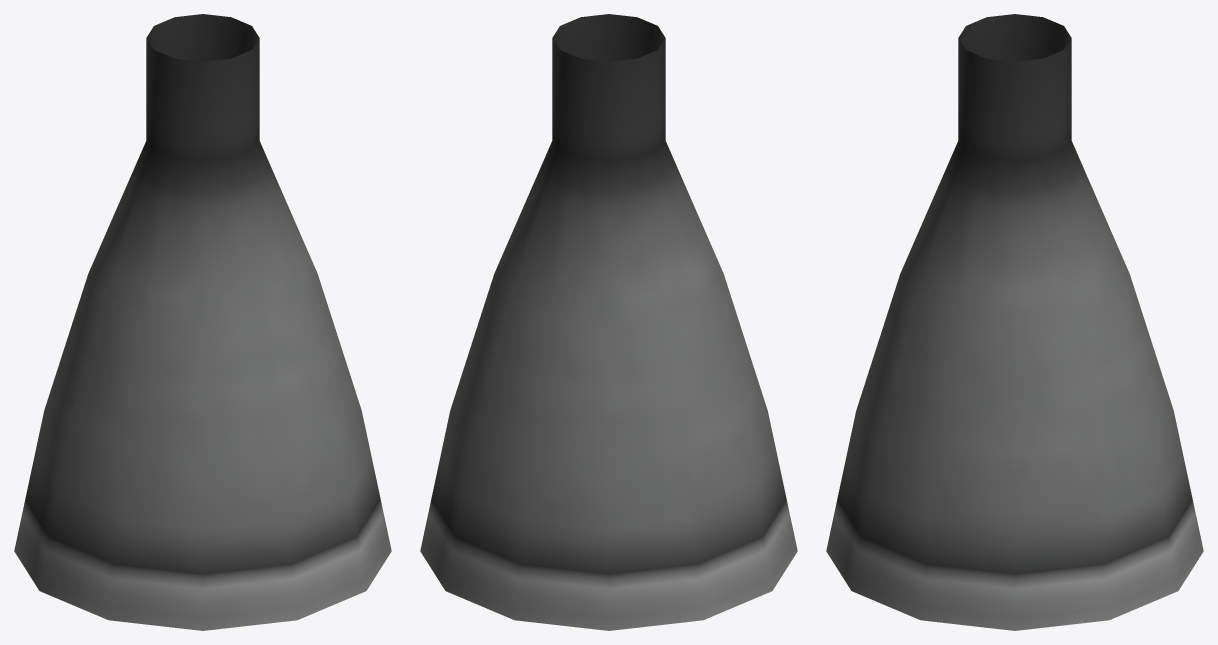
Rendered from delphini_us_engine_s1_1_vernier.obj.
3 renders of one model, left to right at view 1: azimuth 30°, elevation 25°; view 2: azimuth 150°, elevation 25°; view 3: azimuth 270°, elevation 25°, orthographic.
Visible parts, largest first — view 1: delphini_us_engine_s1_1_vernier; view 2: delphini_us_engine_s1_1_vernier; view 3: delphini_us_engine_s1_1_vernier.
Part boxes in pixels (box(x1,y1,x2,y2)): delphini_us_engine_s1_1_vernier: box(14, 14, 391, 630); delphini_us_engine_s1_1_vernier: box(420, 14, 797, 630); delphini_us_engine_s1_1_vernier: box(826, 14, 1203, 630).
Bounding box in the file's own units: 0.125 × 0.1875 × 0.125.
